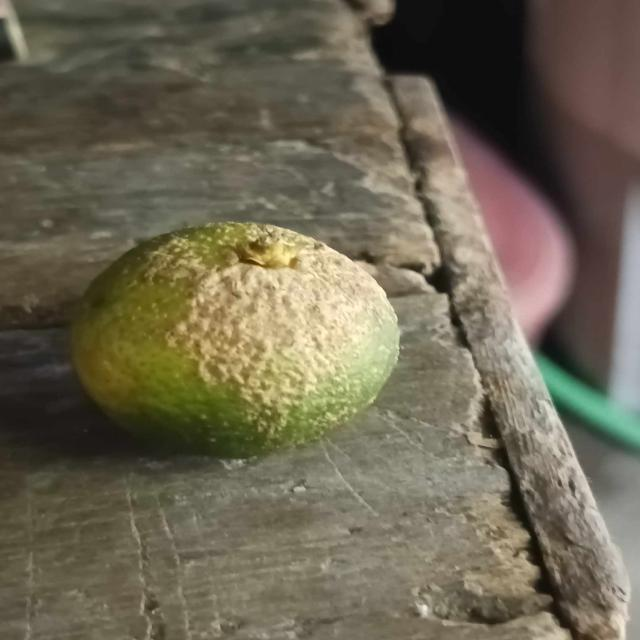scab: (57, 220, 417, 463)
